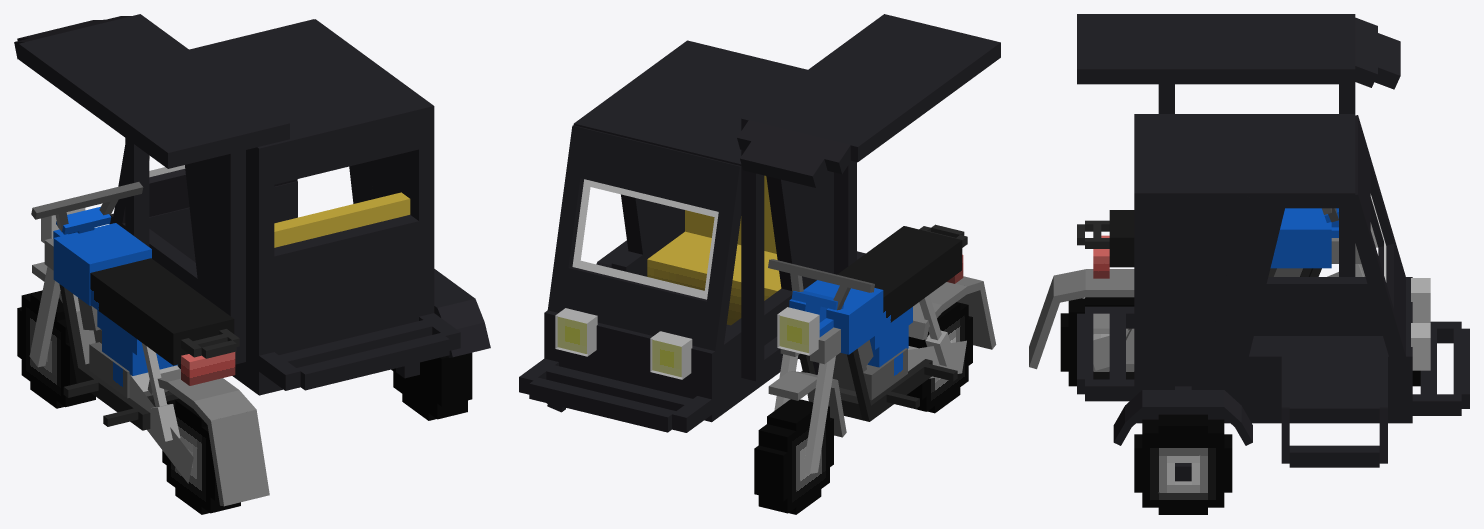
File: tricycle_5.geo - Converted.gltf
3 renders of one model, left to right at view 1: azimuth 30°, elevation 25°; view 2: azimuth 150°, elevation 25°; view 3: azimuth 270°, elevation 25°, orthographic. The views are drawn at different scales.
Parts seen in each view (by area): view 1: rickshaw_body (×24), rickshaw_motor (×12), wheel_front_left3 (×2), wheel_front_left, steering_wheel (×2), wheel_front_left2; view 2: rickshaw_body (×29), rickshaw_motor (×11), steering_wheel (×7), wheel_front_left (×3), wheel_front_left2; view 3: rickshaw_body (×33), rickshaw_motor (×7), wheel_front_left3 (×4), wheel_front_left2 (×3).
Part boxes in pixels (<box>): rickshaw_body (×24): <box>18,14,490,395</box>; rickshaw_motor (×12): <box>53,223,269,506</box>; wheel_front_left3 (×2): <box>393,352,472,419</box>; wheel_front_left: <box>21,290,95,407</box>; steering_wheel (×2): <box>29,182,143,367</box>; wheel_front_left2: <box>166,398,240,513</box>; rickshaw_body (×29): <box>519,14,1000,432</box>; rickshaw_motor (×11): <box>789,226,996,421</box>; steering_wheel (×7): <box>768,259,874,473</box>; wheel_front_left (×3): <box>754,399,829,513</box>; wheel_front_left2: <box>908,302,968,411</box>; rickshaw_body (×33): <box>1077,14,1469,467</box>; rickshaw_motor (×7): <box>1029,208,1331,370</box>; wheel_front_left3 (×4): <box>1134,414,1232,507</box>; wheel_front_left2 (×3): <box>1060,297,1134,386</box>.
Bounding box in the file's own units: 2.88 × 2.94 × 3.36.
1 material, 1 textured.
